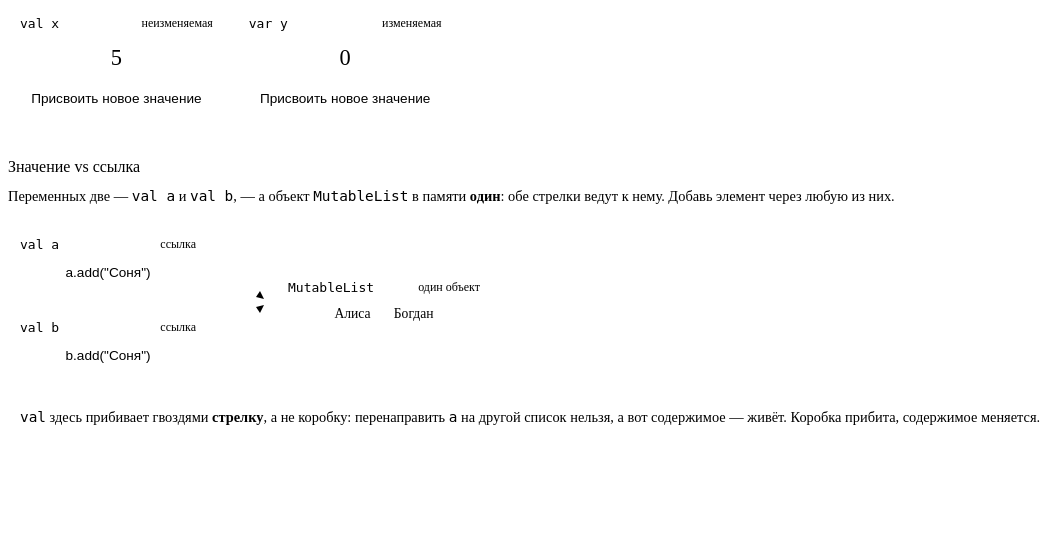
Test: creating a new val on top adds the new cell
Click the button "Присвоить новое значение" below "val x": (116, 98) [20, 86, 213, 110]
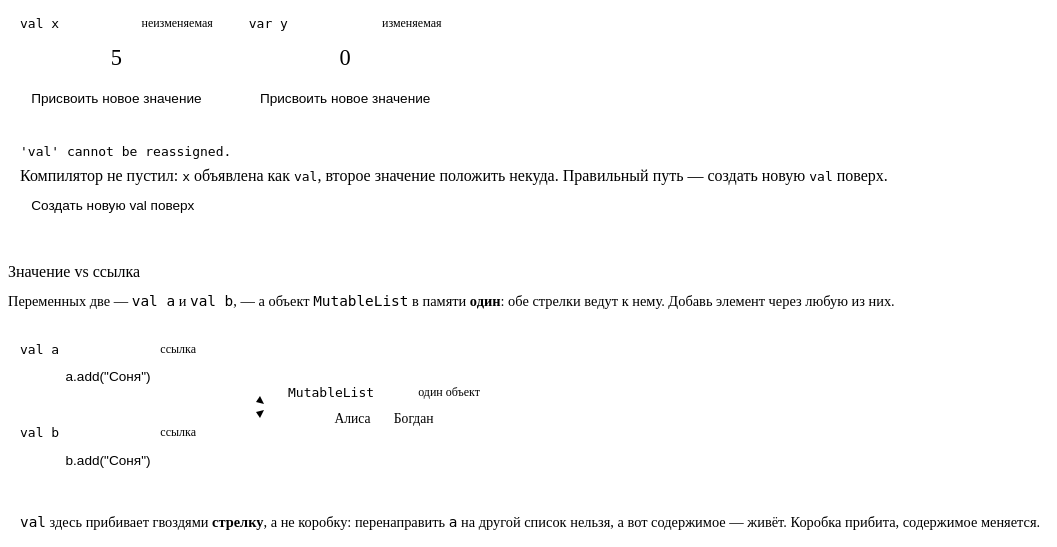
Click the button "Создать новую val поверх": (113, 205) [20, 193, 206, 218]
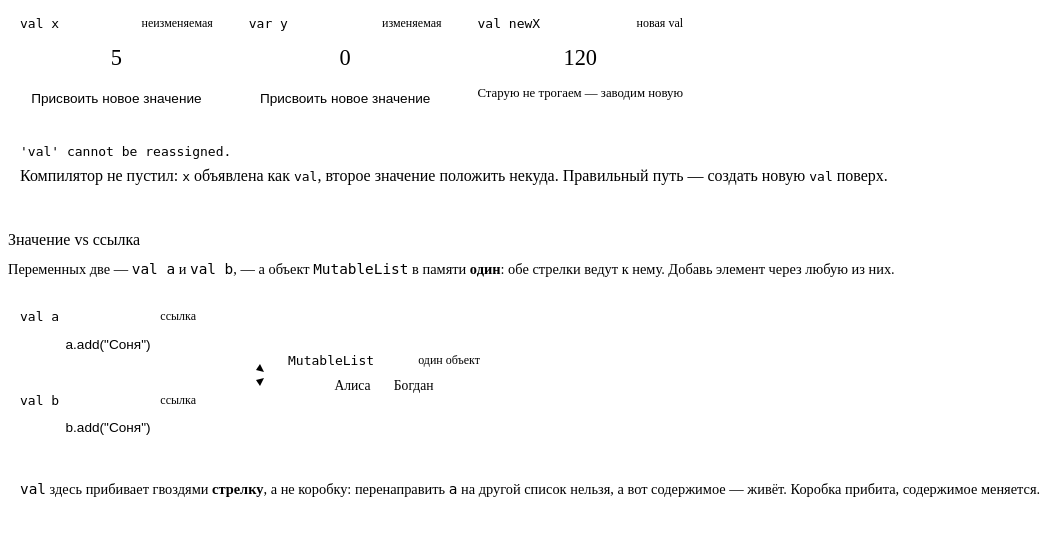
Now the text "val newX" is shown, box [478, 16, 540, 31]
Now the text "120" is shown, box [564, 45, 597, 70]
